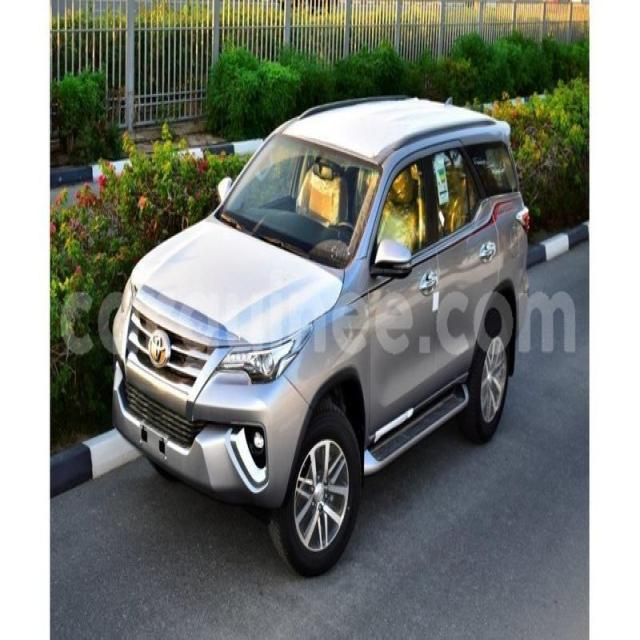light_vehicle: (110, 94, 531, 577)
